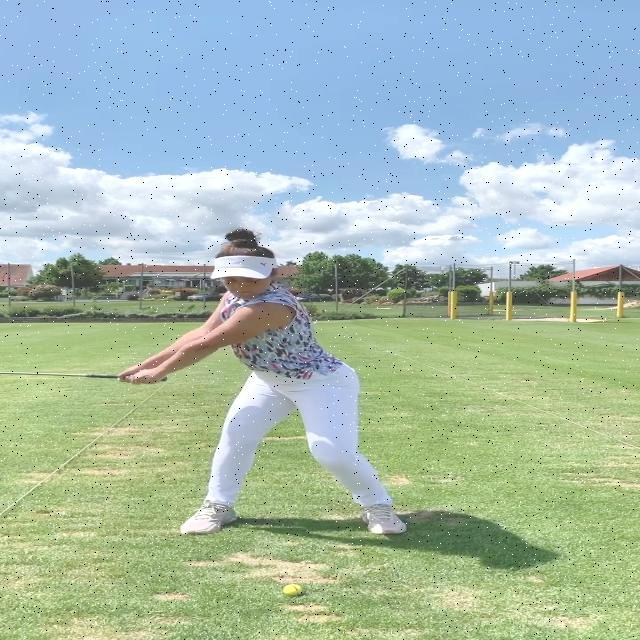golf ball: (284, 585, 302, 595)
golf club-handle: (0, 372, 168, 381)
